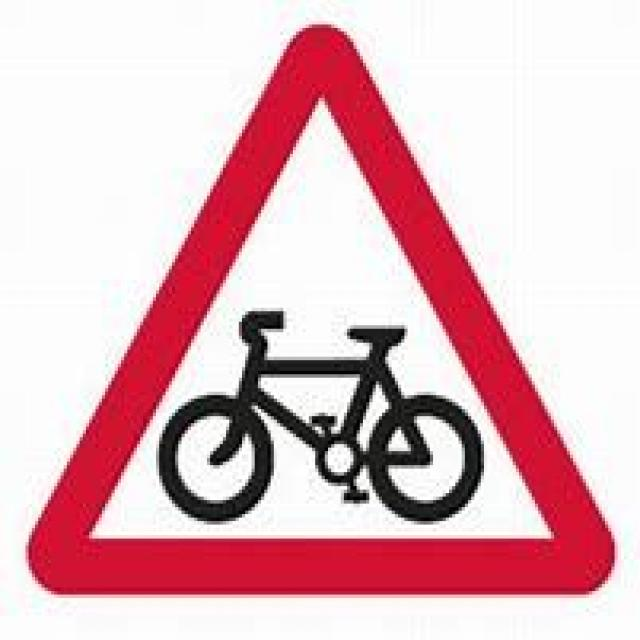CYCLE_CROSSING: (22, 18, 612, 598)
